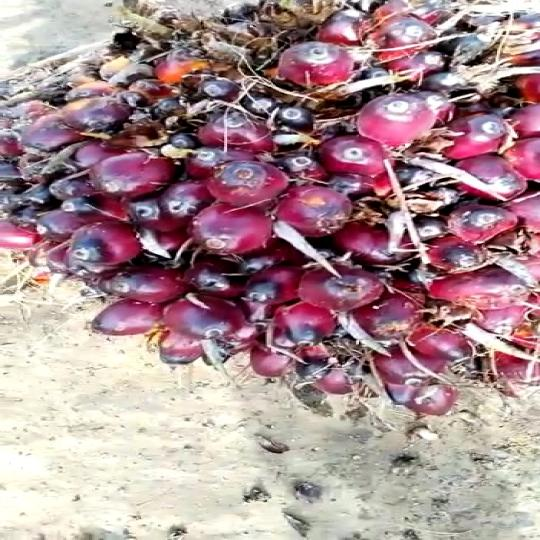masak: (0, 2, 540, 429)
